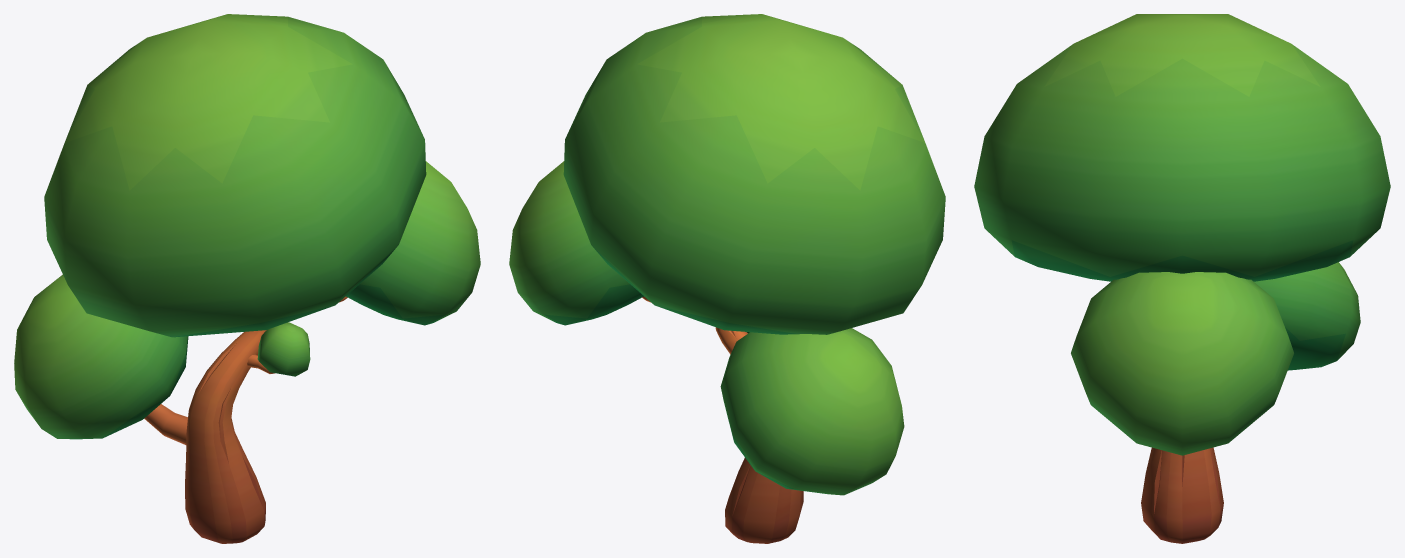
The model's file is tree_1_c_color1.247556b1.glb.
The picture shows the model from 3 angles, left to right: view 1: azimuth 30°, elevation 25°; view 2: azimuth 150°, elevation 25°; view 3: azimuth 270°, elevation 25°; orthographic projection. The views are drawn at different scales.
Visible parts, largest first — view 1: Tree_1_C_Color1; view 2: Tree_1_C_Color1; view 3: Tree_1_C_Color1.
Part boxes in pixels (x1,y1,x2,y2): Tree_1_C_Color1: (14,14,480,543); Tree_1_C_Color1: (509,14,945,543); Tree_1_C_Color1: (974,14,1390,543).
Size of the model in its own units: 6.69 by 7.81 by 5.75.
1 material, 1 textured.
